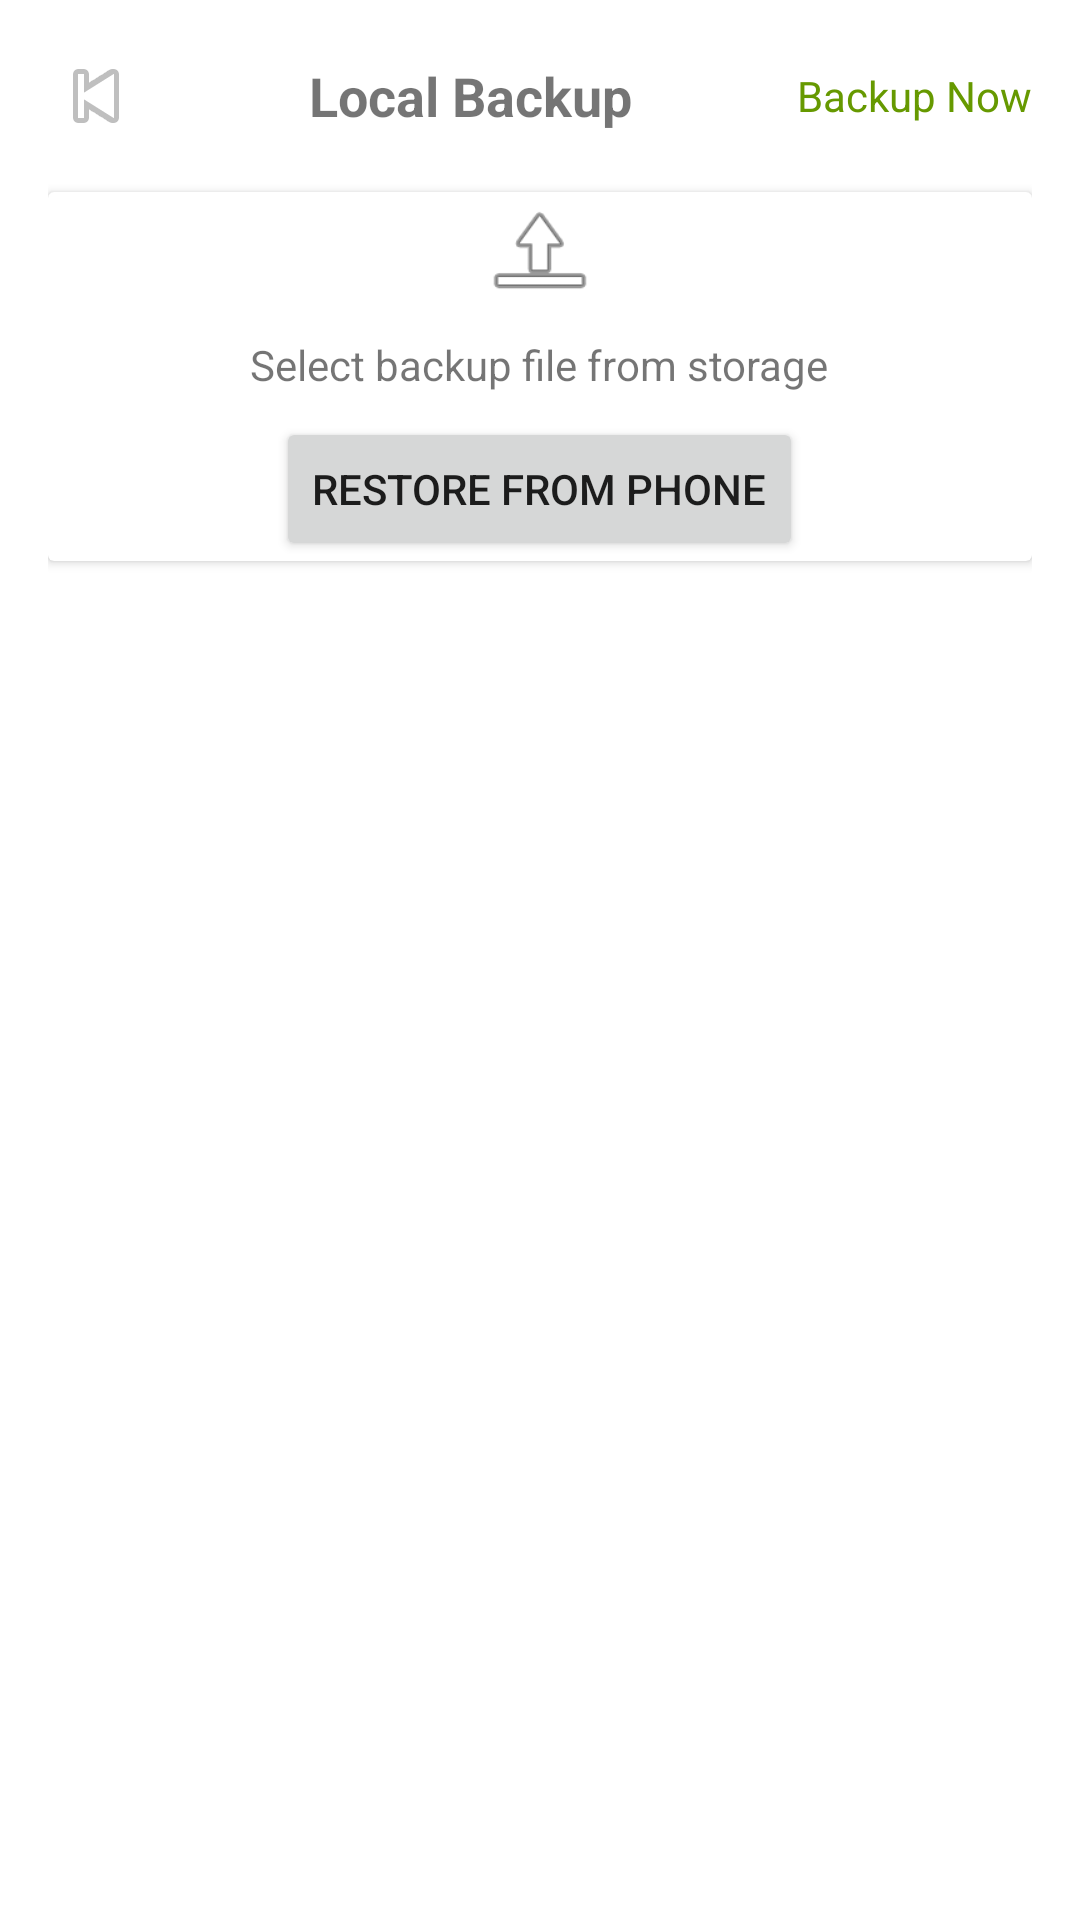

Where to tap for icons on this 1080×1920 app screen, as [x,y]:
previous: [96,96]
upload: [540,250]
